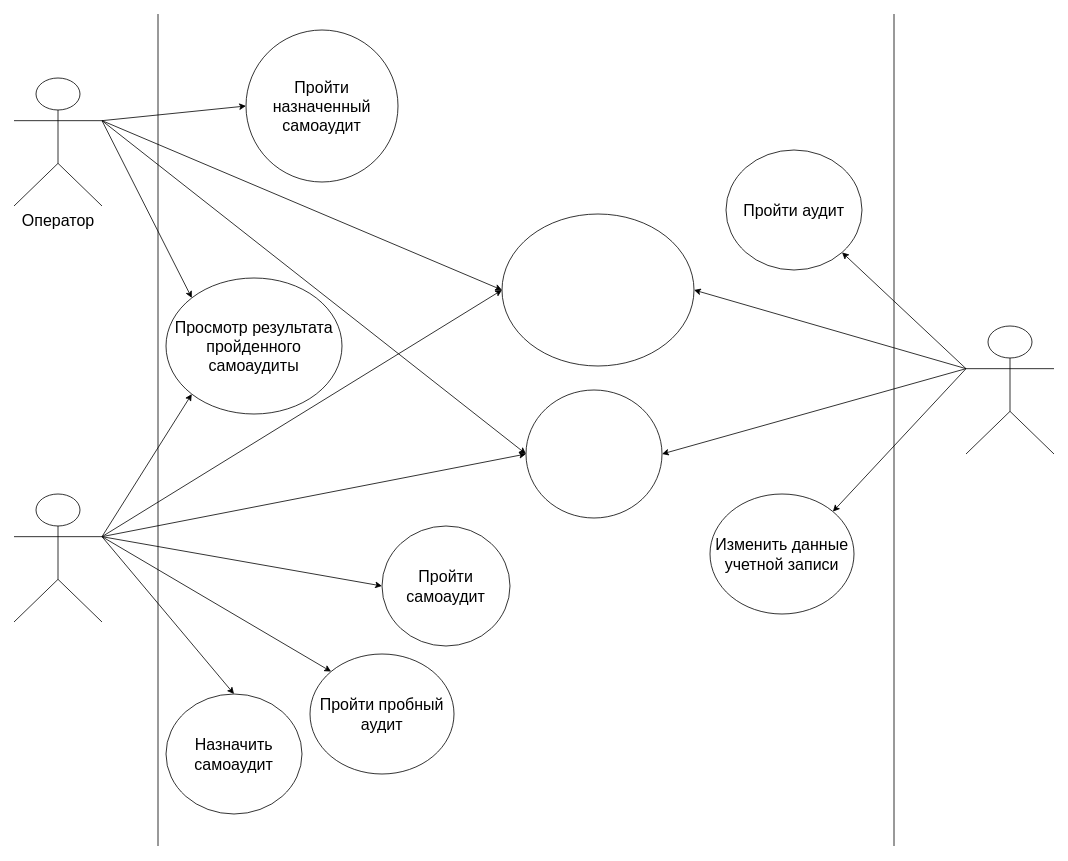
Image size: 1068x861. Some labels were removed from this diagram. The shapes that lost their labels are listed below. From the top down, each one's box as (x1, y1, x2, y2) in pixels, then its label:
(501, 213, 694, 366): Просмотор результата пройденного аудита
(965, 325, 1054, 454): Эксперт
(525, 389, 662, 518): Перейти на сайт WIKI
(13, 493, 102, 622): Мастер
